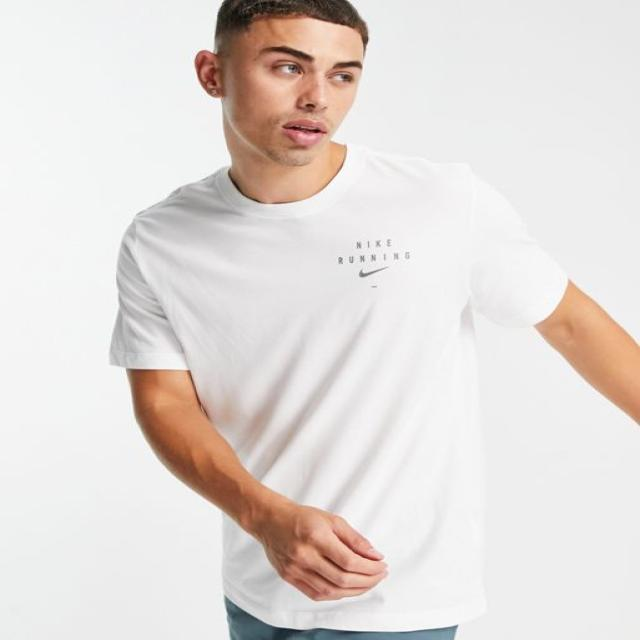tshirt: (109, 147, 565, 629)
